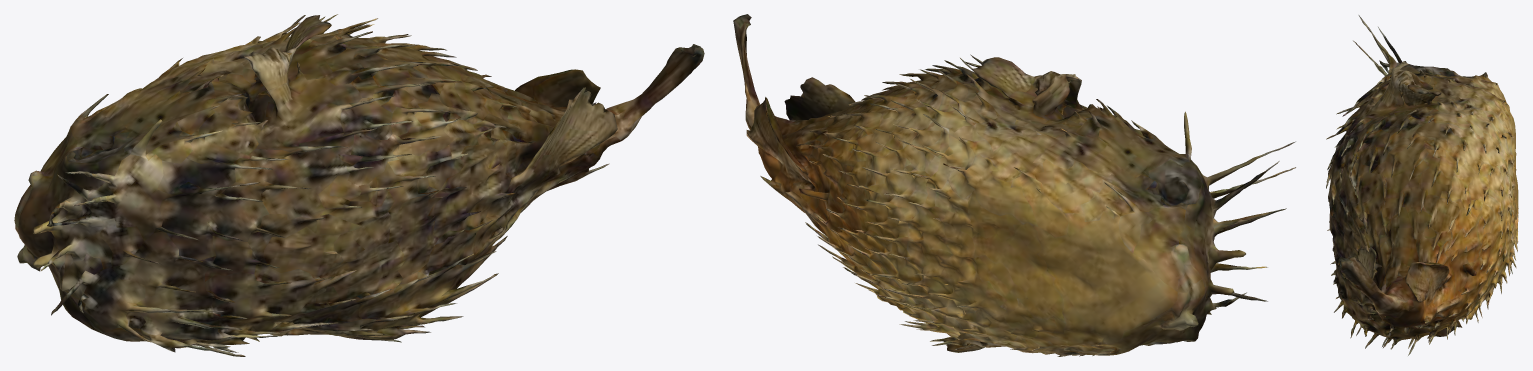
Rendered from smithsonian-diodon-hystrix.glb.
3 views of the same model, side by side, from view 1: azimuth 30°, elevation 25°; view 2: azimuth 150°, elevation 25°; view 3: azimuth 270°, elevation 25° (orthographic). The views are drawn at different scales.
Bounding box in the file's own units: 0.1563 × 0.0743 × 0.0544.
Materials: 1 (1 with a texture image).
